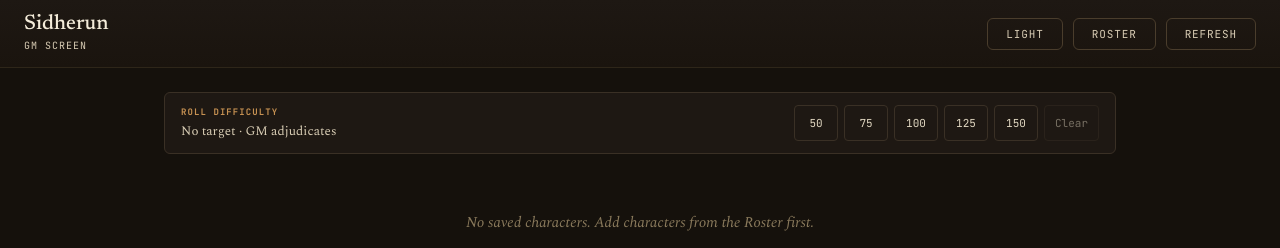
Scenario: GMScreen › sets and clears the active difficulty target
Expected: the button "Clear" is disabled, [1044,105,1099,141]
Click the button "75".
click(866, 123)  # box [844,105,888,141]
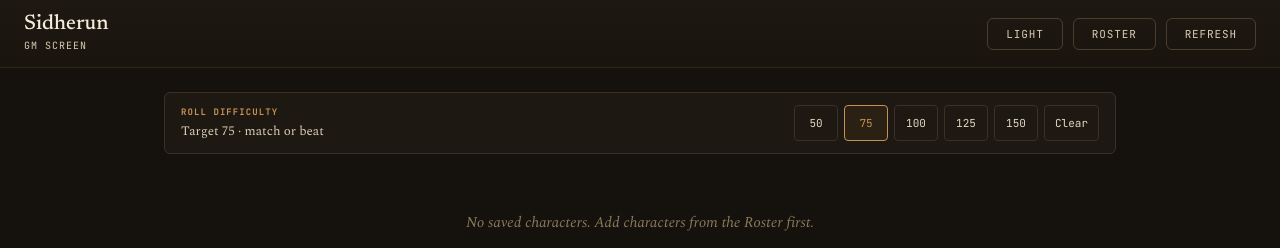
Expected: the text "Target 75 · match or beat" is shown, [181,120,324,140]
Expected: the button "Clear" is enabled
Click the button "Clear".
click(1072, 123)  # box [1044,105,1099,141]
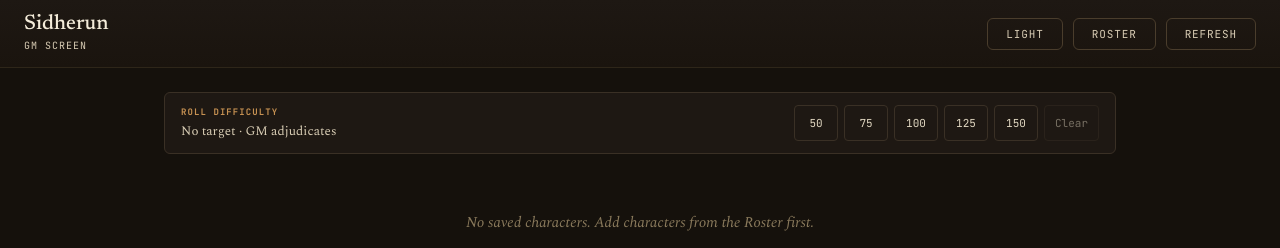
Expected: the text "No target · GM adjudicates" is shown, [181,120,336,140]
Expected: the button "Clear" is disabled, [1044,105,1099,141]
